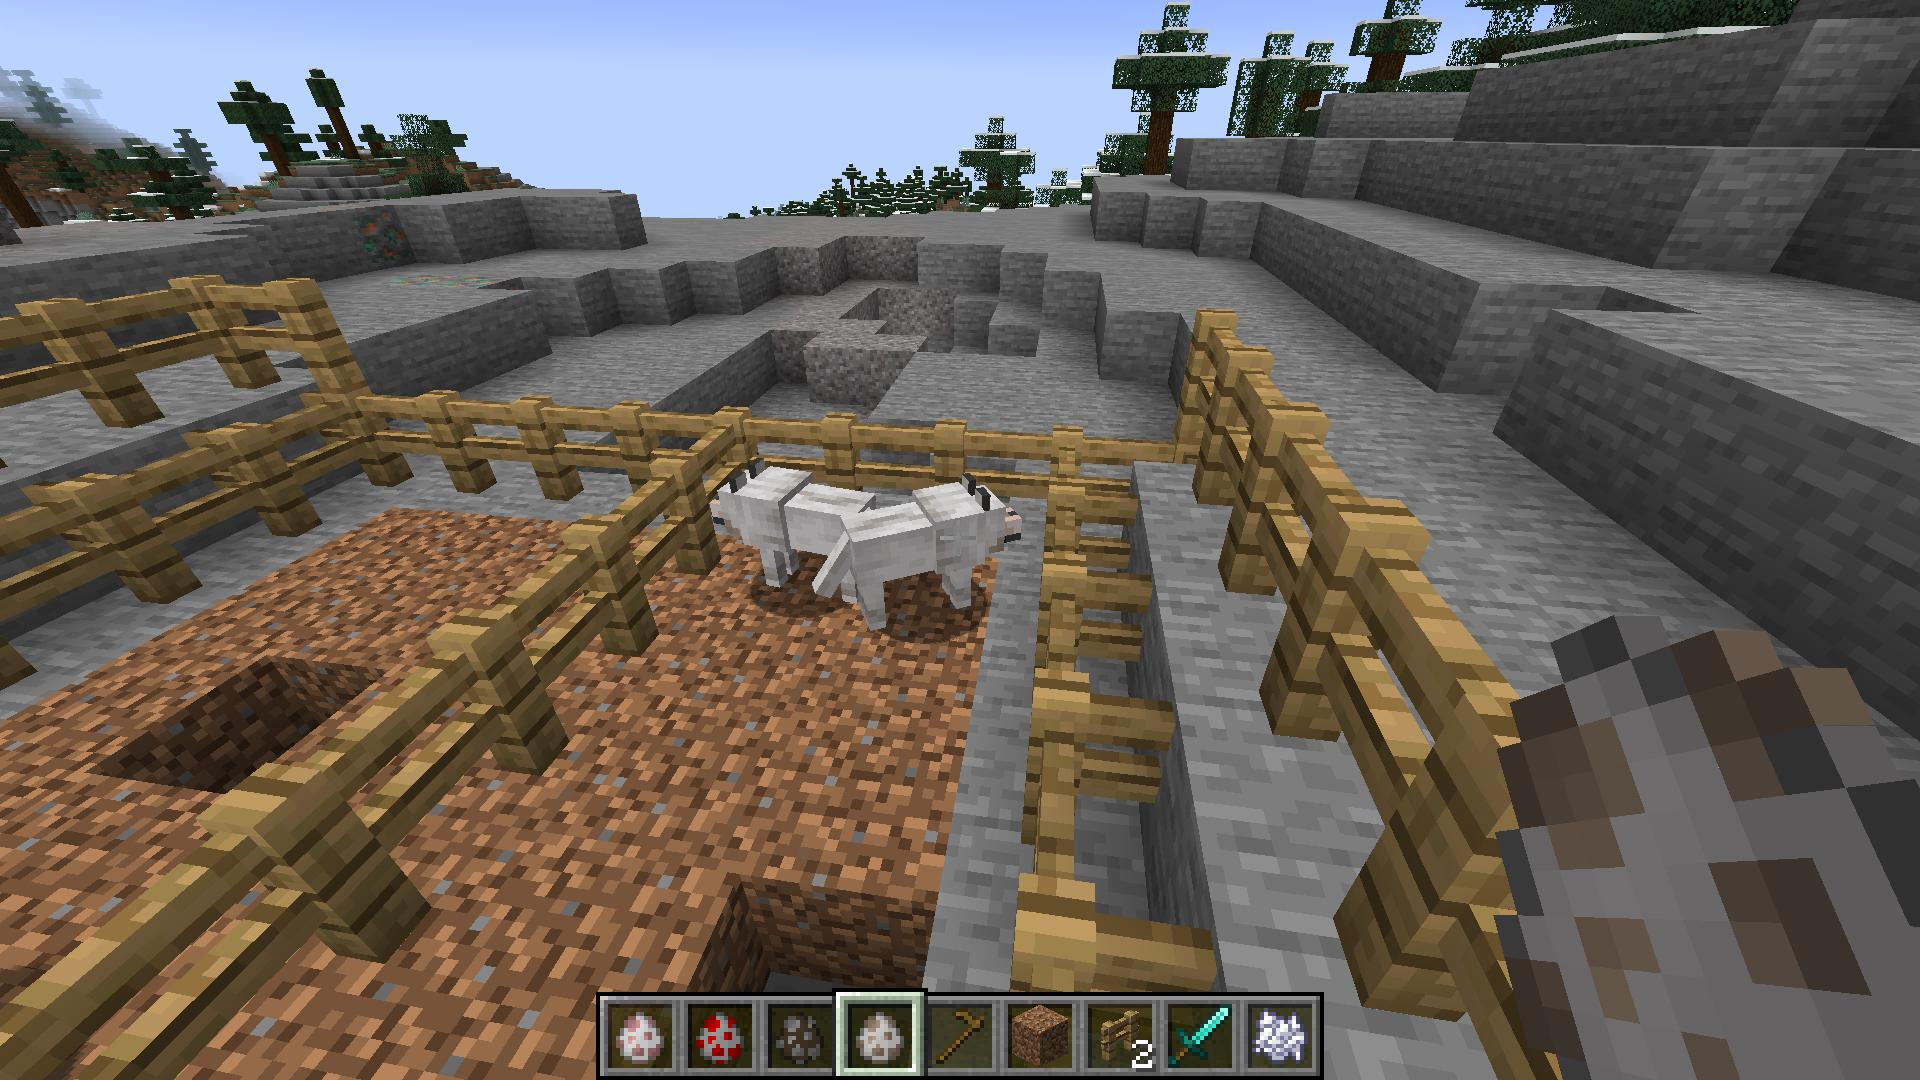wolf: (818, 469, 1025, 632), (704, 458, 872, 599)
